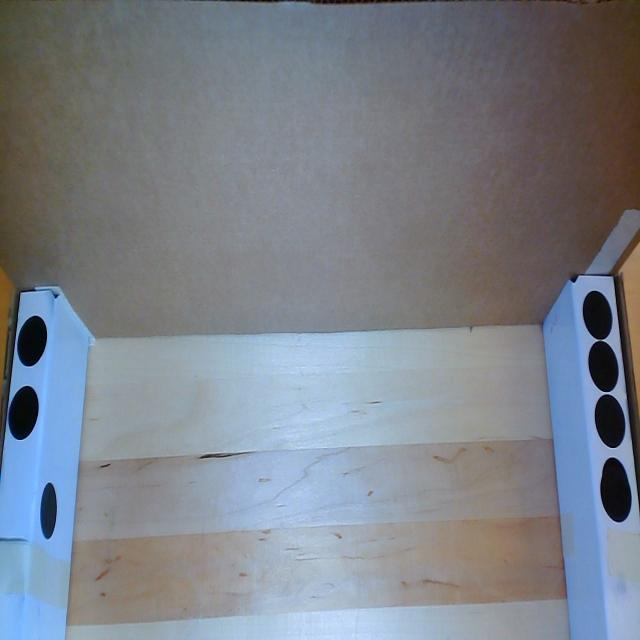Hole: (601, 457, 628, 496)
Sticker: (6, 382, 41, 443), (15, 313, 49, 370), (593, 393, 627, 449), (584, 341, 620, 392), (600, 473, 633, 523), (38, 479, 61, 549), (583, 286, 612, 341)
